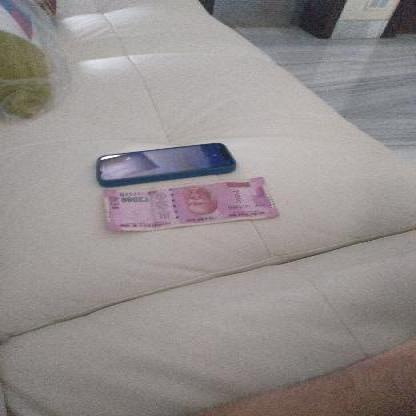New2000Front: (100, 180, 271, 227)
